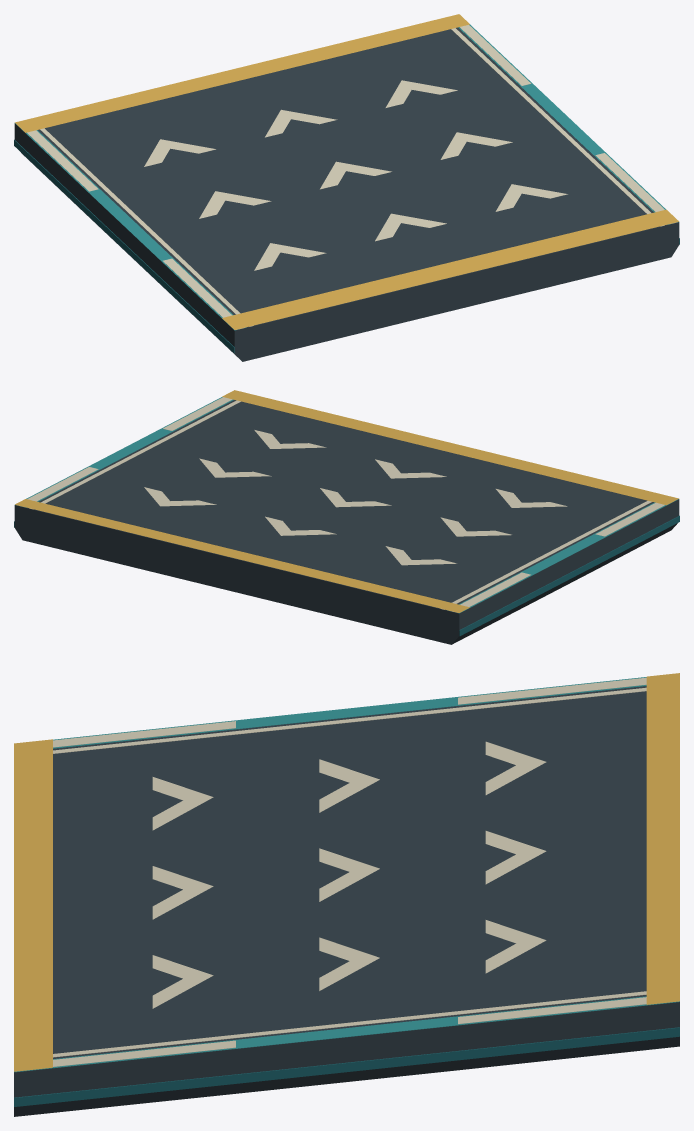
File: track_ramp_01.glb
3 views of the same model, one above another, from view 1: azimuth 30°, elevation 25°; view 2: azimuth 150°, elevation 25°; view 3: azimuth 270°, elevation 25° (orthographic). The views are drawn at different scales.
Parts seen in each view (by area): view 1: track_ramp_01__Surface, track_ramp_01__LaunchMarkings; view 2: track_ramp_01__Surface, track_ramp_01__LaunchMarkings; view 3: track_ramp_01__Surface, track_ramp_01__LaunchMarkings.
Part boxes in pixels (x1=…): track_ramp_01__Surface: x1=14, y1=24, x2=679, y2=361; track_ramp_01__LaunchMarkings: x1=15, y1=14, x2=678, y2=329; track_ramp_01__Surface: x1=14, y1=397, x2=679, y2=644; track_ramp_01__LaunchMarkings: x1=15, y1=390, x2=678, y2=612; track_ramp_01__Surface: x1=14, y1=677, x2=679, y2=1116; track_ramp_01__LaunchMarkings: x1=14, y1=673, x2=679, y2=1071.
Size of the model in its own units: 14.04 by 2.41 by 12.
